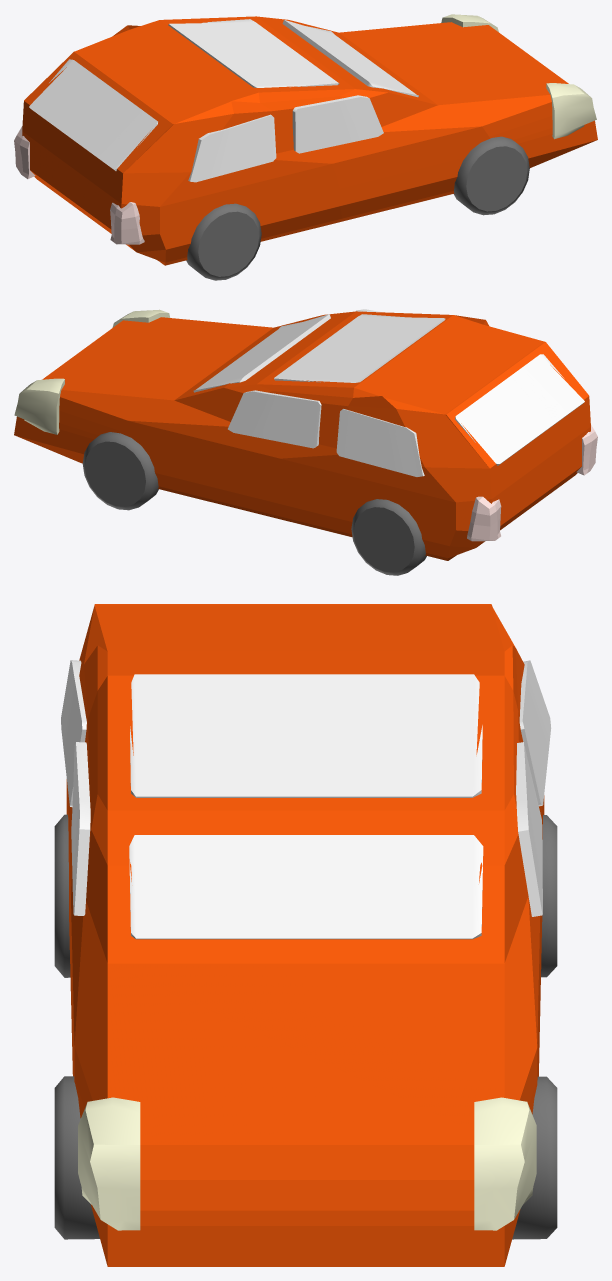
File: CarroRojo.fbx
The picture shows the model from 3 angles, top to bottom: view 1: azimuth 30°, elevation 25°; view 2: azimuth 150°, elevation 25°; view 3: azimuth 270°, elevation 25°; orthographic projection. The views are drawn at different scales.
Parts seen in each view (by area): view 1: pCube1, pCube10, pCube15, pCylinder1, pCylinder2, pCube8, pCube13, pCube6, pCube9, pCube11; view 2: pCube1, pCube10, pCube15, pCylinder3, pCylinder4, pCube12, pCube14, pCube6, pCube9, pCube11; view 3: pCube1, pCube15, pCube6, pCube9, pCylinder1, pCylinder3, pCube12, pCube14, pCube8, pCylinder4, pCylinder2, pCube13.
Boxes of the visible parts, box(x1,y1,x2,y2) form: pCube1: box(22, 16, 597, 265); pCube10: box(29, 59, 157, 170); pCube15: box(168, 19, 339, 87); pCylinder1: box(454, 136, 529, 215); pCylinder2: box(186, 203, 261, 280); pCube8: box(292, 95, 383, 153); pCube13: box(188, 114, 276, 182); pCube6: box(282, 20, 418, 97); pCube9: box(441, 14, 596, 139); pCube11: box(14, 126, 144, 244); pCube1: box(14, 311, 590, 560); pCube10: box(455, 354, 584, 465); pCube15: box(274, 314, 445, 382); pCylinder3: box(82, 432, 158, 510); pCylinder4: box(351, 499, 426, 575); pCube12: box(228, 390, 321, 448); pCube14: box(336, 409, 424, 476); pCube6: box(193, 314, 330, 392); pCube9: box(14, 309, 170, 434); pCube11: box(467, 425, 597, 541); pCube1: box(66, 604, 544, 1266); pCube15: box(130, 674, 482, 797); pCube6: box(129, 835, 483, 939); pCube9: box(78, 1097, 536, 1230); pCylinder1: box(54, 1076, 99, 1239); pCylinder3: box(512, 1076, 557, 1239); pCube12: box(516, 742, 542, 916); pCube14: box(519, 660, 551, 806); pCube8: box(71, 742, 90, 915); pCylinder4: box(541, 815, 557, 977); pCylinder2: box(54, 814, 70, 977); pCube13: box(61, 660, 86, 807).
Size of the model in its own units: 24.46 by 8.28 by 11.09.
